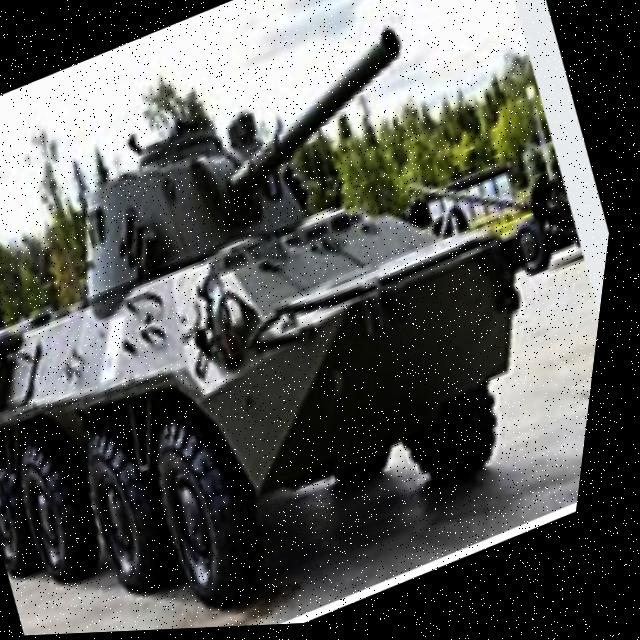MIL_APC: (0, 5, 631, 640)
